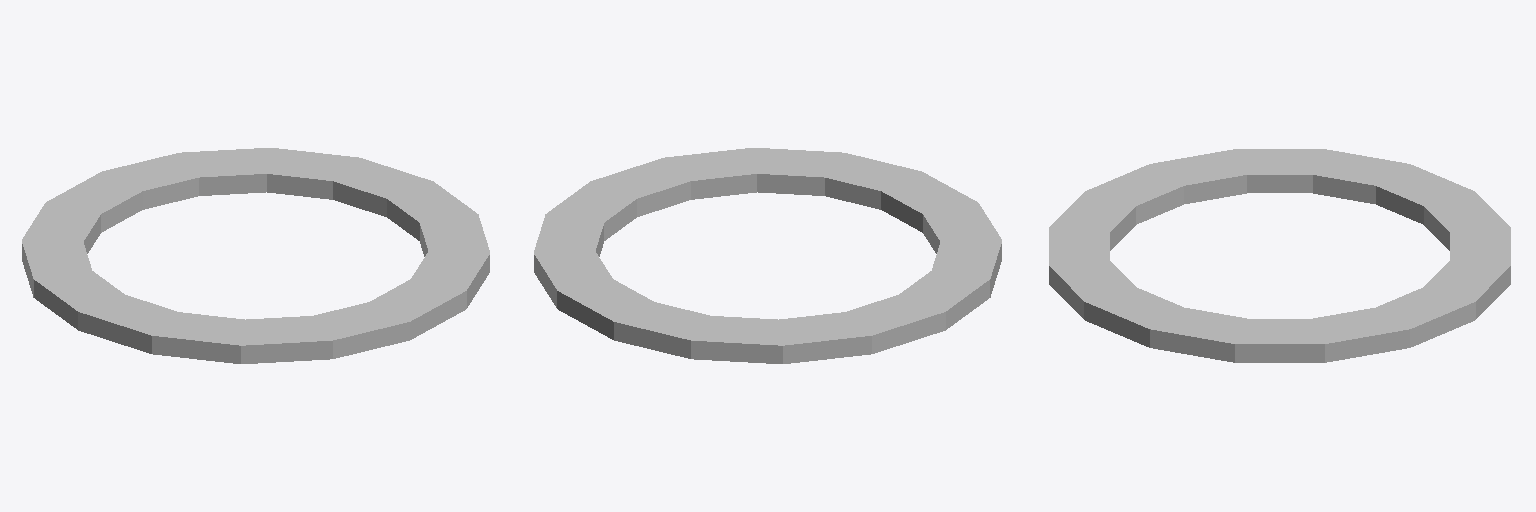
The model's file is target.obj.
3 views of the same model, side by side, from view 1: azimuth 30°, elevation 25°; view 2: azimuth 150°, elevation 25°; view 3: azimuth 270°, elevation 25° (orthographic).
Parts seen in each view (by area): view 1: Cube; view 2: Cube; view 3: Cube.
Part boxes in pixels (left/top/right/bottom): Cube: left=22, top=148, right=489, bottom=363; Cube: left=534, top=148, right=1001, bottom=363; Cube: left=1049, top=149, right=1510, bottom=362.
Bounding box in the file's own units: 2.53 × 0.113 × 2.53.